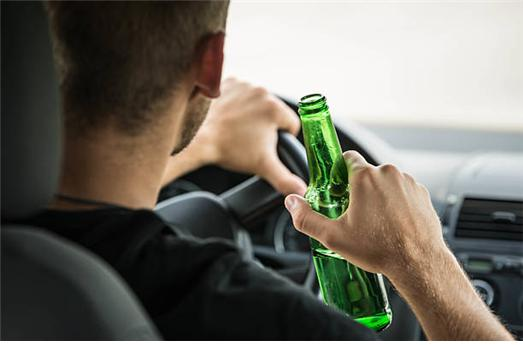alcohol: (296, 92, 392, 335)
